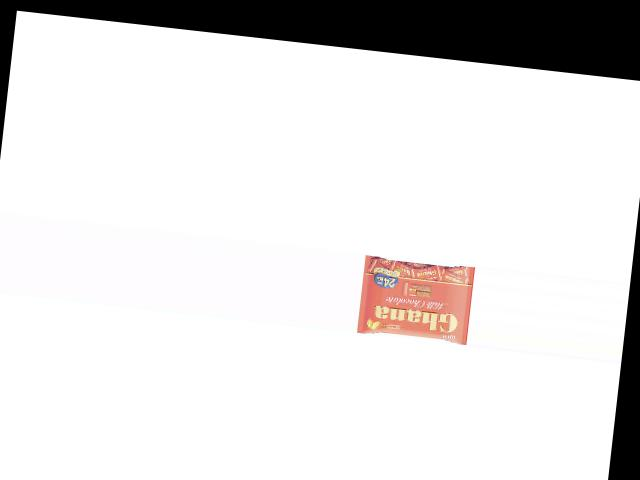chocolate: (355, 252, 473, 343)
